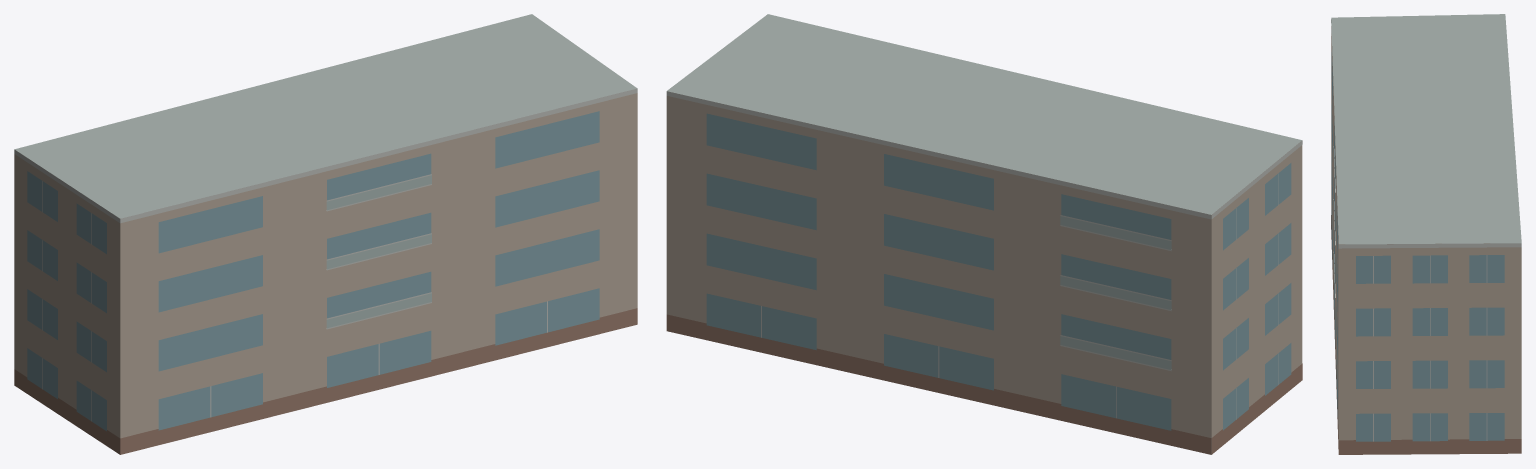
Rendered from survey-upis-32768487.glb.
The picture shows the model from 3 angles, left to right: view 1: azimuth 30°, elevation 25°; view 2: azimuth 150°, elevation 25°; view 3: azimuth 270°, elevation 25°; orthographic projection. The views are drawn at different scales.
Parts seen in each view (by area): view 1: survey-upis-32768487.tmp; view 2: survey-upis-32768487.tmp; view 3: survey-upis-32768487.tmp.
Boxes of the visible parts, x1=… form: survey-upis-32768487.tmp: x1=14, y1=14, x2=637, y2=454; survey-upis-32768487.tmp: x1=666, y1=14, x2=1302, y2=454; survey-upis-32768487.tmp: x1=1331, y1=14, x2=1521, y2=454.
Size of the model in its own units: 29.84 by 12.7 by 10.43.
